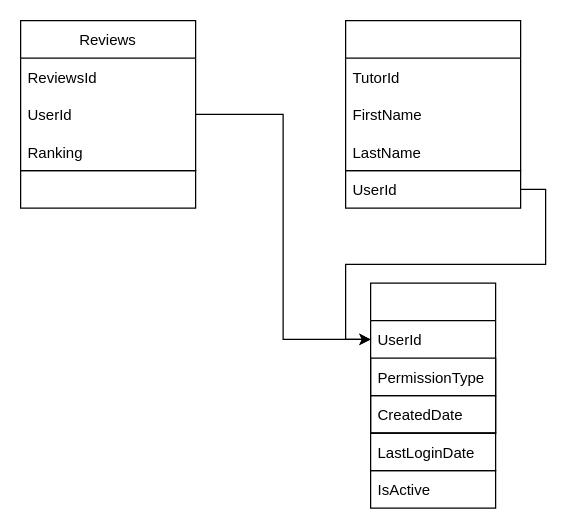
This 566x529 diagram has some shape labels left out. The shapes that lost their labels are listed below. From the top down, each one's box as (x1, y1, x2, y2) in pixels, then its label:
(344, 19, 521, 171): Tutors
(19, 169, 196, 208): RankedDateTime
(369, 282, 496, 433): Users
